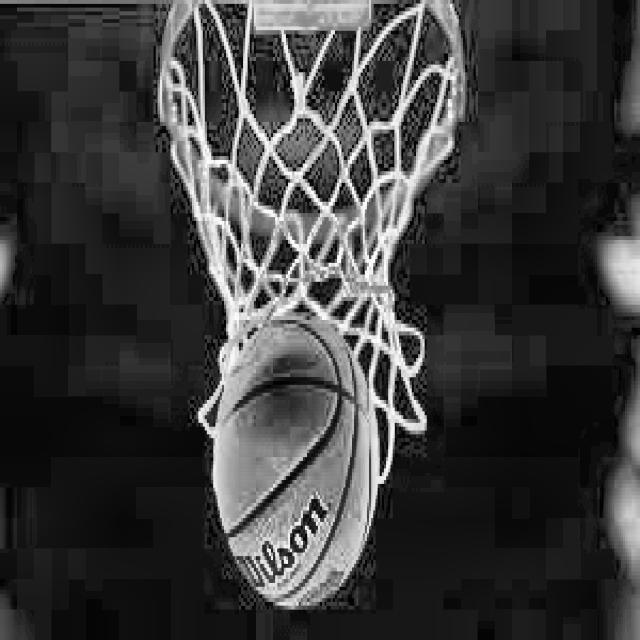Basketball: (213, 316, 380, 610)
